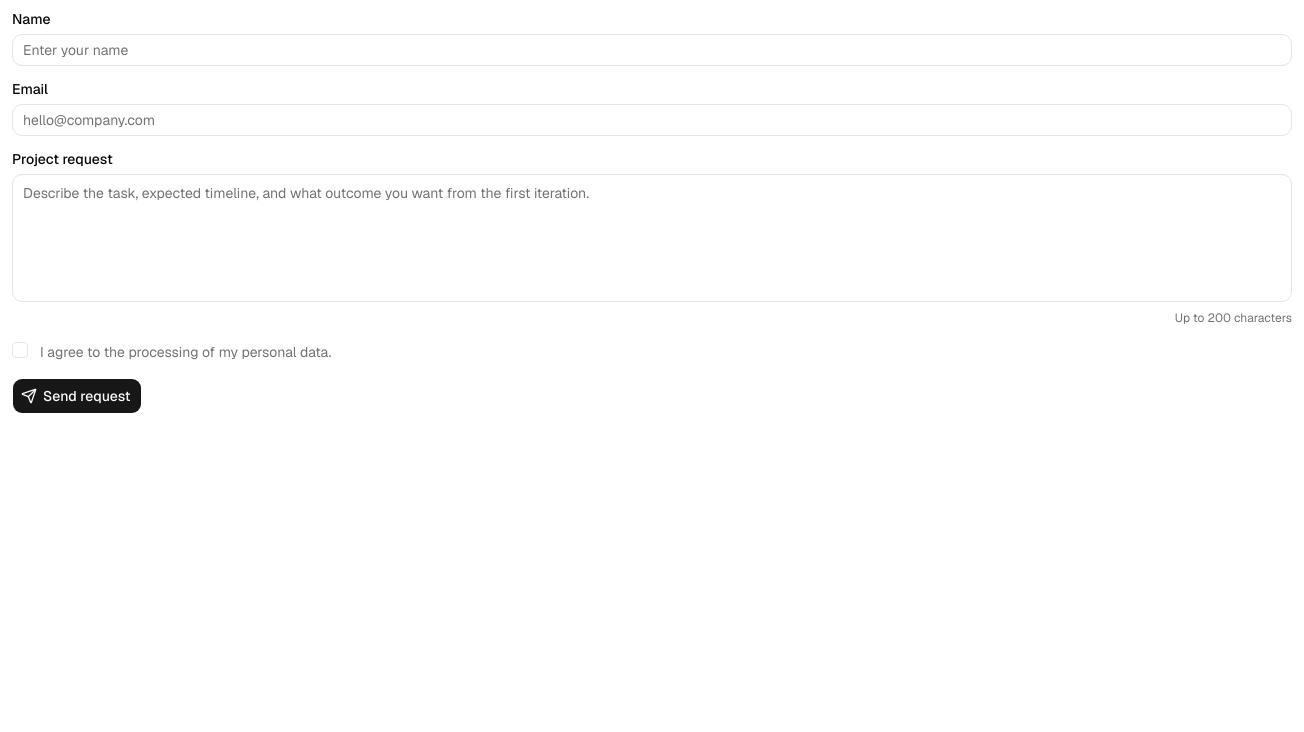
LeadForm › shows pending state and prevents duplicate submissions
The width and height of the screenshot is (1304, 732).
Type "Ada Lovelace" into the field labelled "Name".
click(652, 50); type("Ada Lovelace")  # box x1=12 y1=34 x2=1292 y2=66
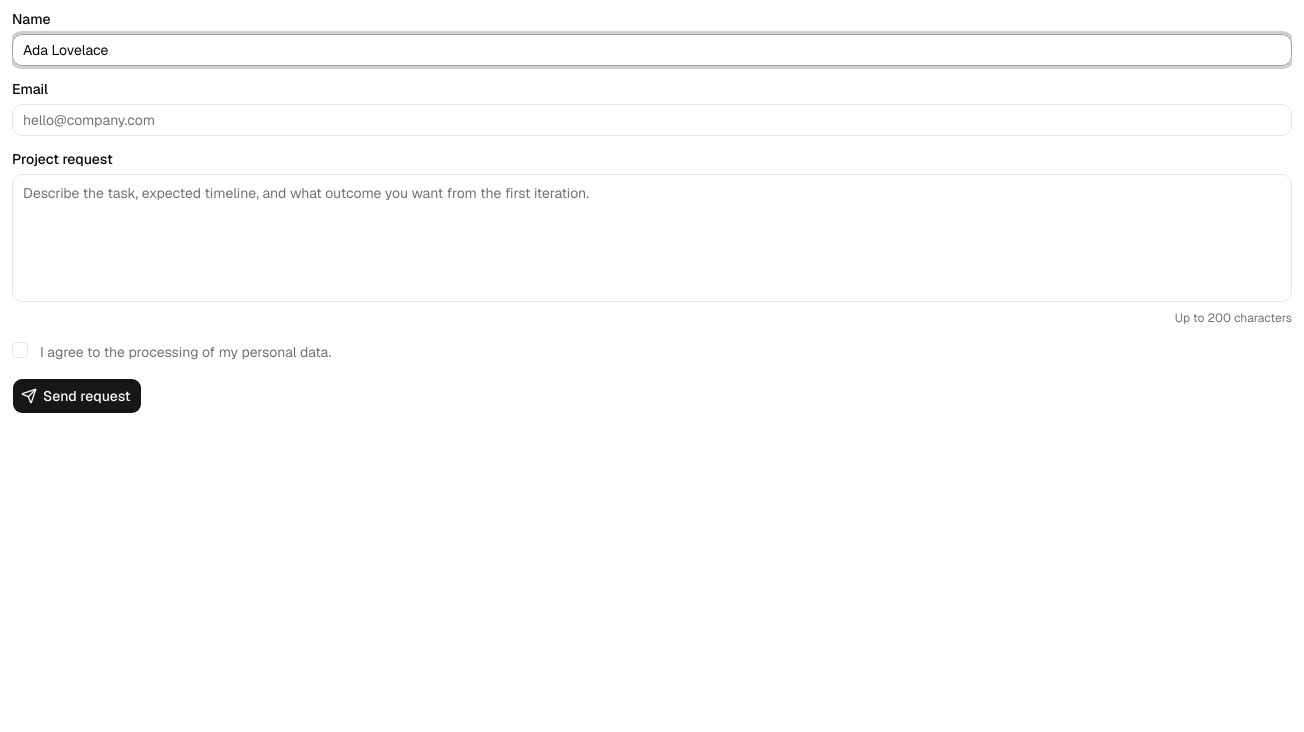
Type "ada@example.com" into the field labelled "Email".
click(652, 120); type("ada@example.com")  # box x1=12 y1=104 x2=1292 y2=136
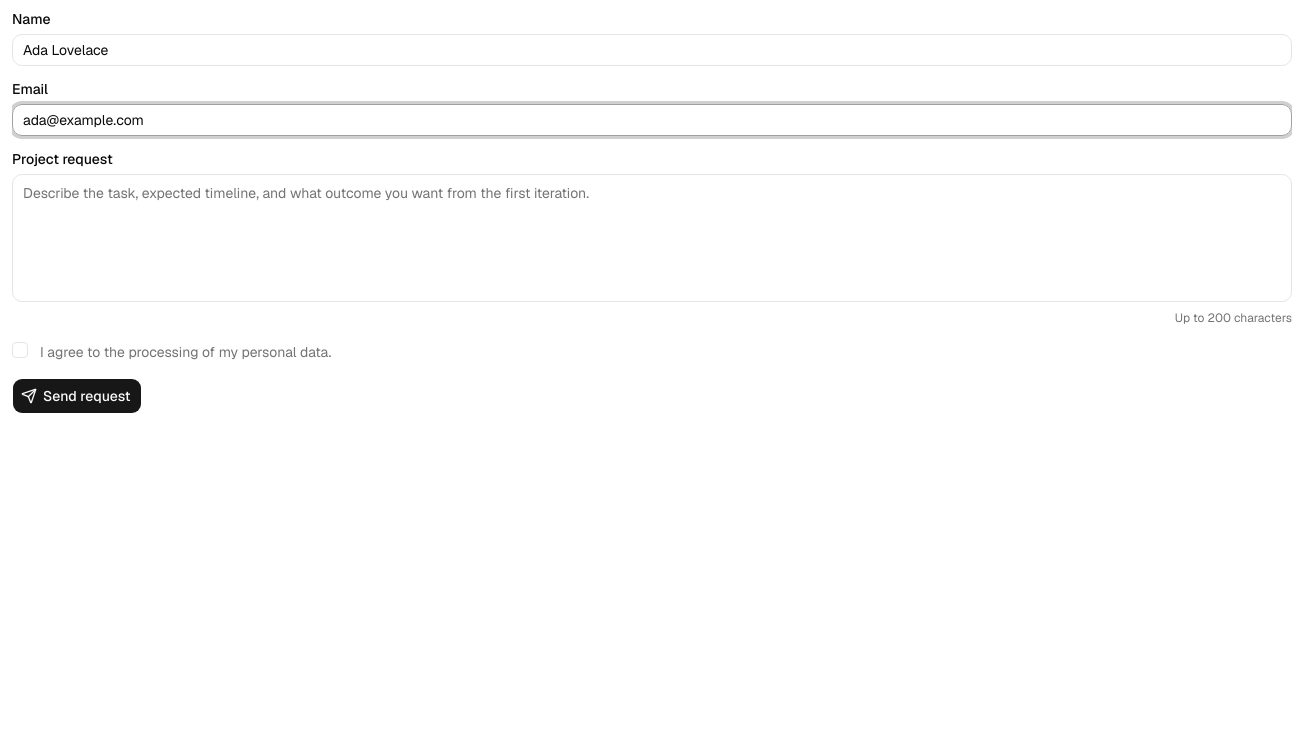
Type "Build a reliable lead intake flow." into the text box labelled "Project request".
click(652, 238); type("Build a reliable lead intake flow.")  # box x1=12 y1=174 x2=1292 y2=302
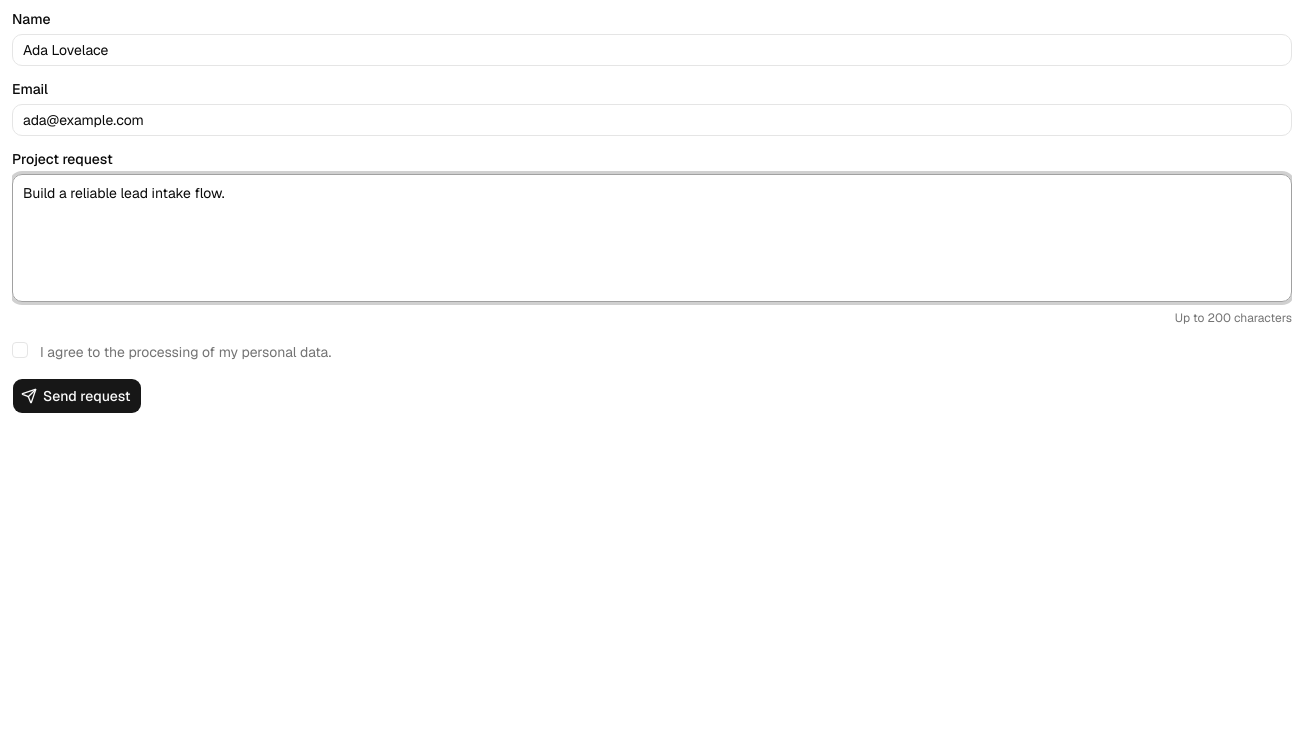
Click the checkbox named "I agree to the processing of my personal data.".
click(20, 350)  # box x1=12 y1=342 x2=28 y2=358
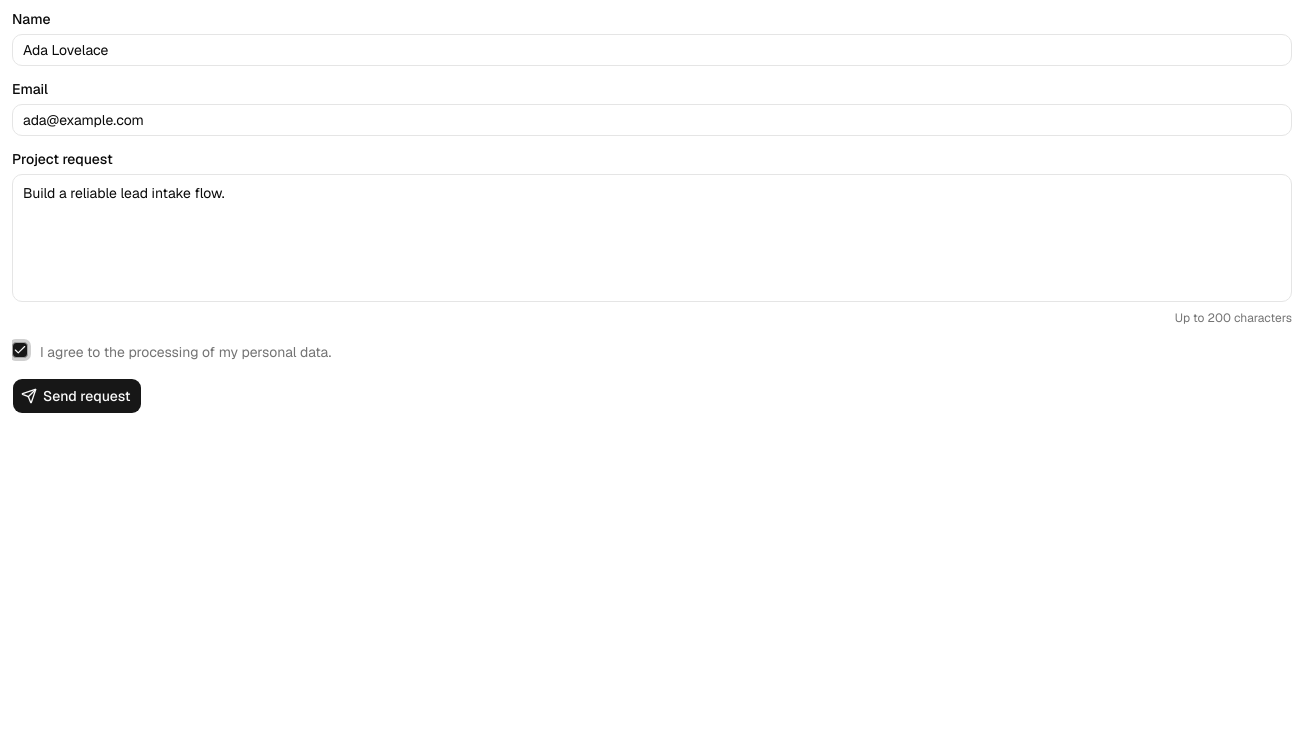
Click the button "Send request".
click(77, 396)  # box x1=12 y1=378 x2=142 y2=414
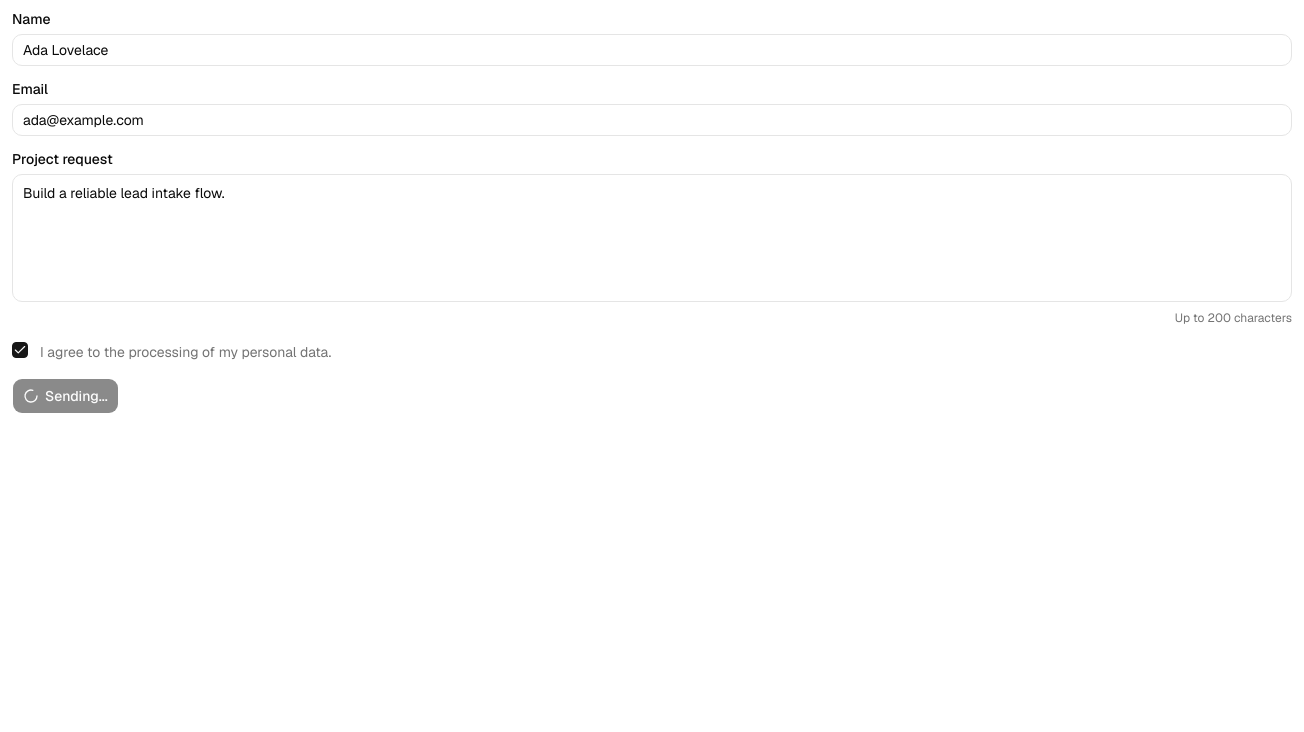
expect the button "Sending..." is disabled: met
Click the button "Sending...".
click(65, 396)  # box x1=12 y1=378 x2=119 y2=414
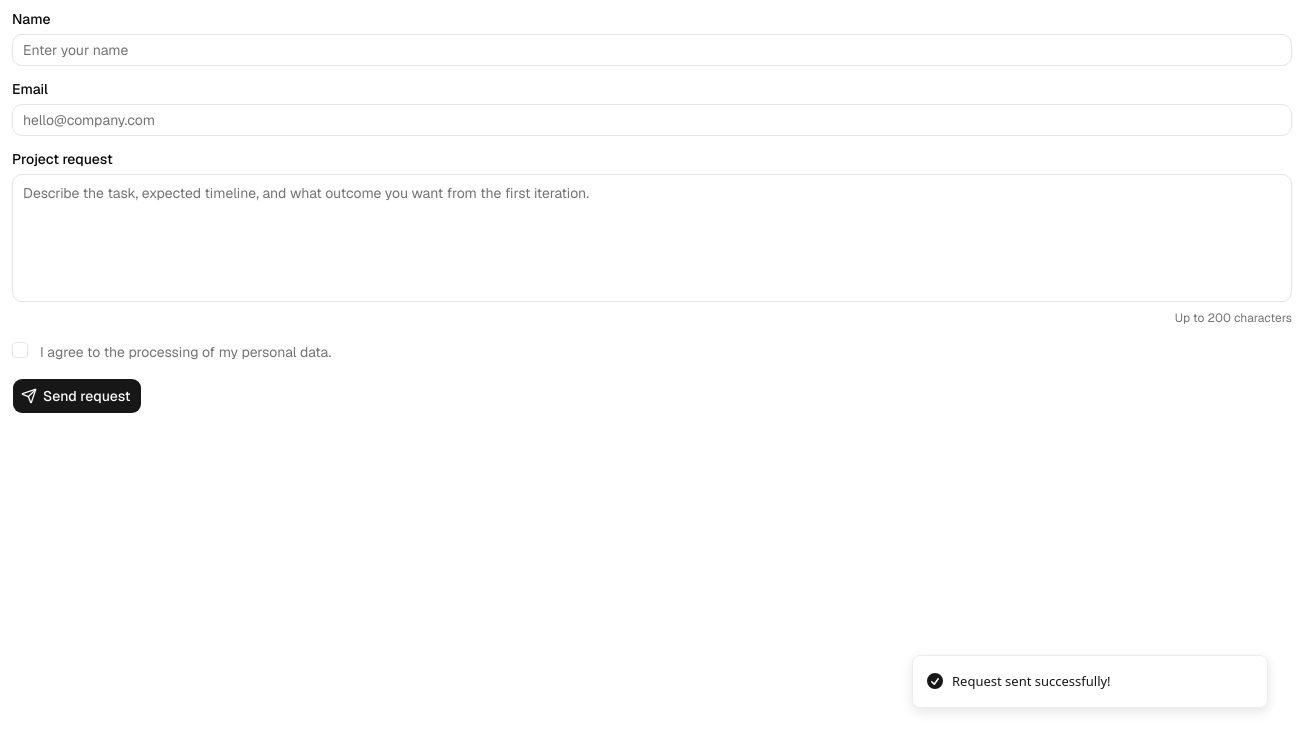
expect the button "Send request" is enabled: met, box x1=12 y1=378 x2=142 y2=414
